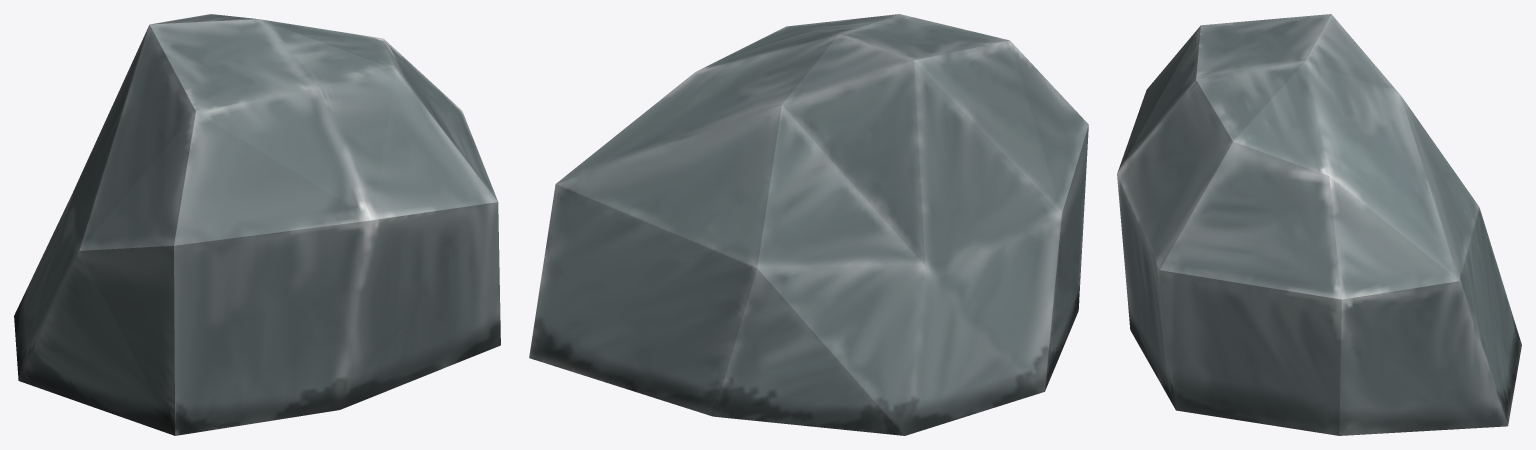
The model's file is rock.dae.
3 renders of one model, left to right at view 1: azimuth 30°, elevation 25°; view 2: azimuth 150°, elevation 25°; view 3: azimuth 270°, elevation 25°, orthographic. The views are drawn at different scales.
Visible parts, largest first — view 1: Cube; view 2: Cube; view 3: Cube.
Part boxes in pixels (<box>): Cube: <box>14,14,500,435</box>; Cube: <box>529,14,1088,435</box>; Cube: <box>1117,14,1521,435</box>.
Size of the model in its own units: 2.02 by 1.75 by 1.52.
Materials: 1 (1 with a texture image).
